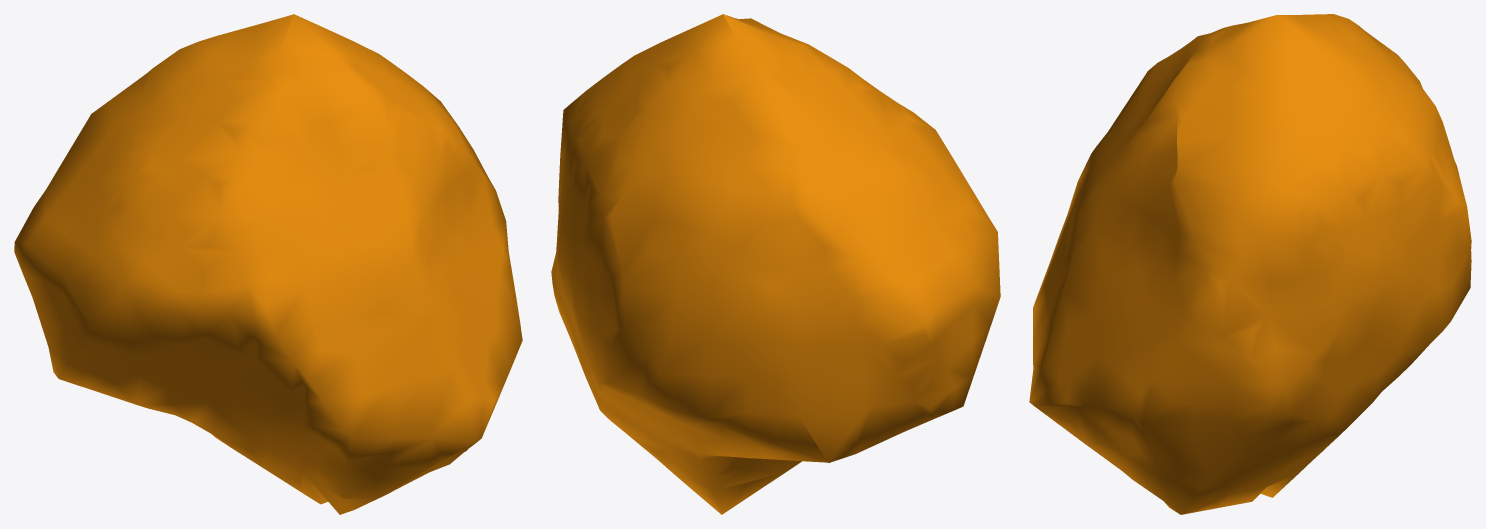
The model's file is karaage1.fbx.
3 renders of one model, left to right at view 1: azimuth 30°, elevation 25°; view 2: azimuth 150°, elevation 25°; view 3: azimuth 270°, elevation 25°, orthographic. The views are drawn at different scales.
Visible parts, largest first — view 1: Icosphere.001; view 2: Icosphere.001; view 3: Icosphere.001.
Part boxes in pixels (box(x1,y1,x2,y2)): Icosphere.001: box(14, 14, 522, 514); Icosphere.001: box(551, 14, 1000, 514); Icosphere.001: box(1029, 14, 1471, 514).
Bounding box in the file's own units: 151 × 167 × 139.
